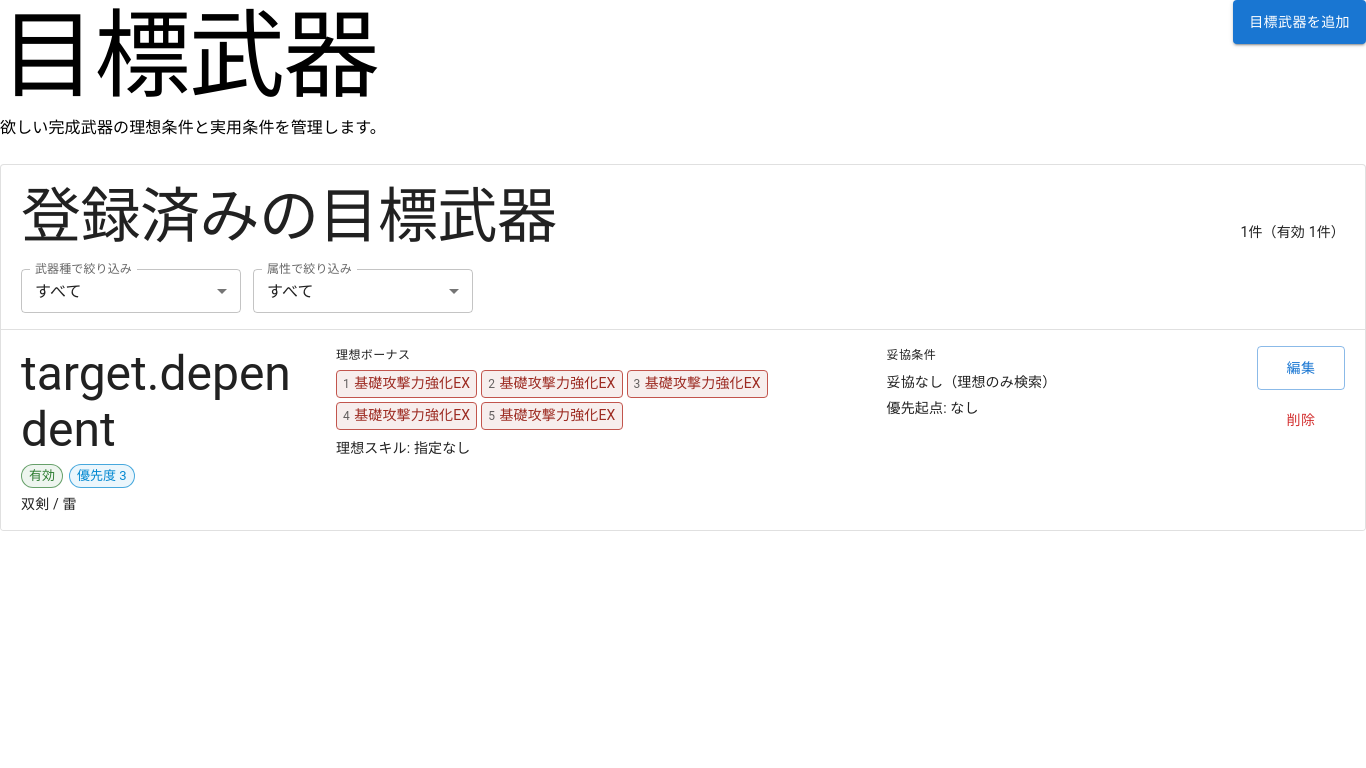
Test: TargetWeaponsPage breaking-change warning › warns before deleting a Plan-dependent Target, after the existing confirmation and reference protection
Click the button "削除" at (1301, 420), box [1257,398,1345,442]
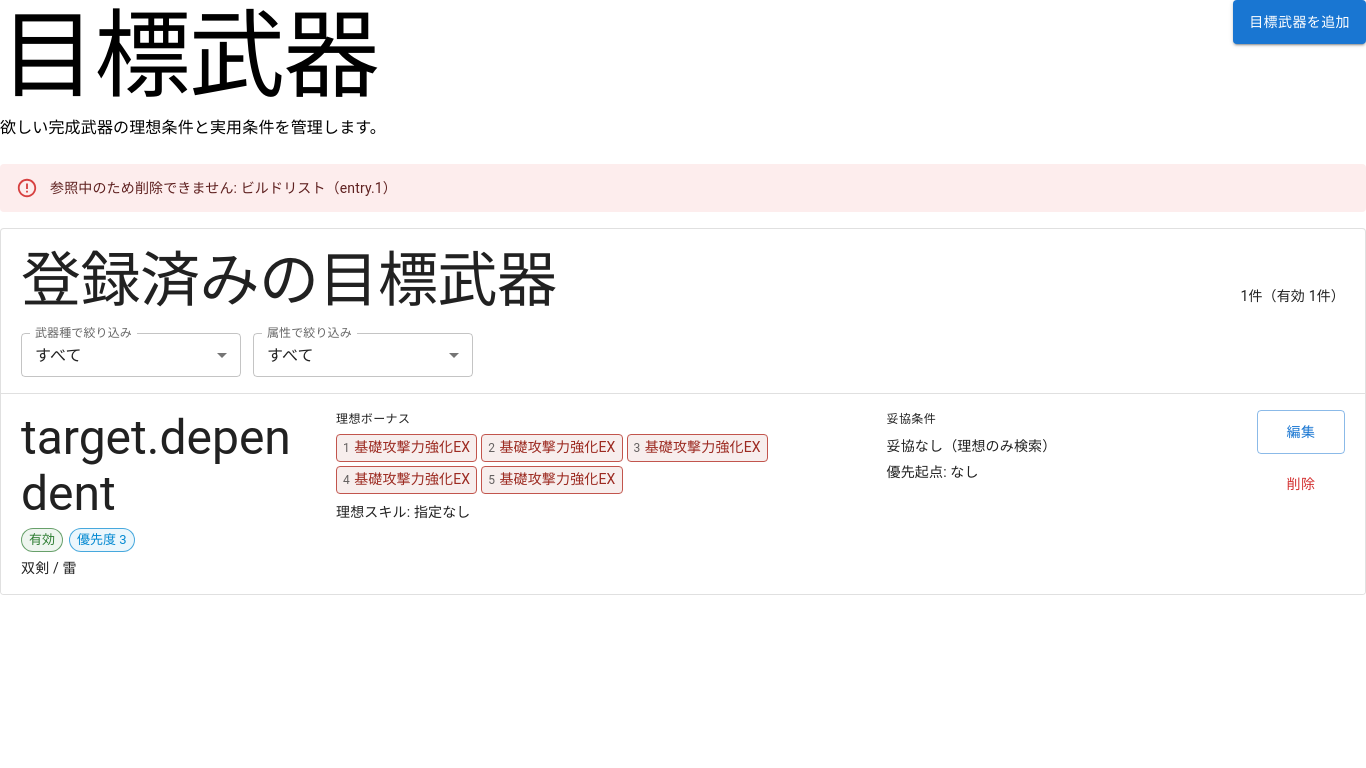
Expected: the text "参照中のため削除できません: ビルドリスト（entry.1）" is shown, [50,180,397,196]
Click the button "削除" at (1301, 484), box [1257,462,1345,506]
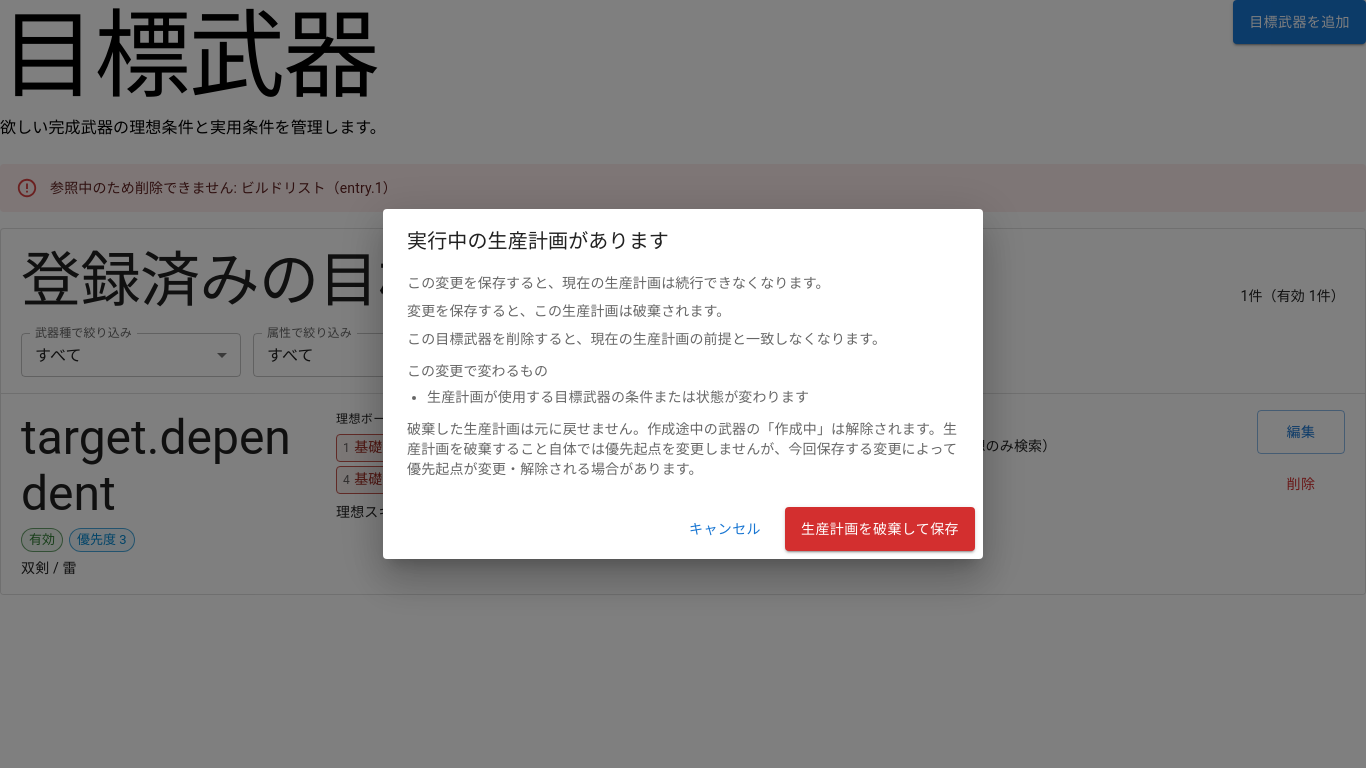
Click the button "生産計画を破棄して保存" at (880, 529), box [785,507,975,551]
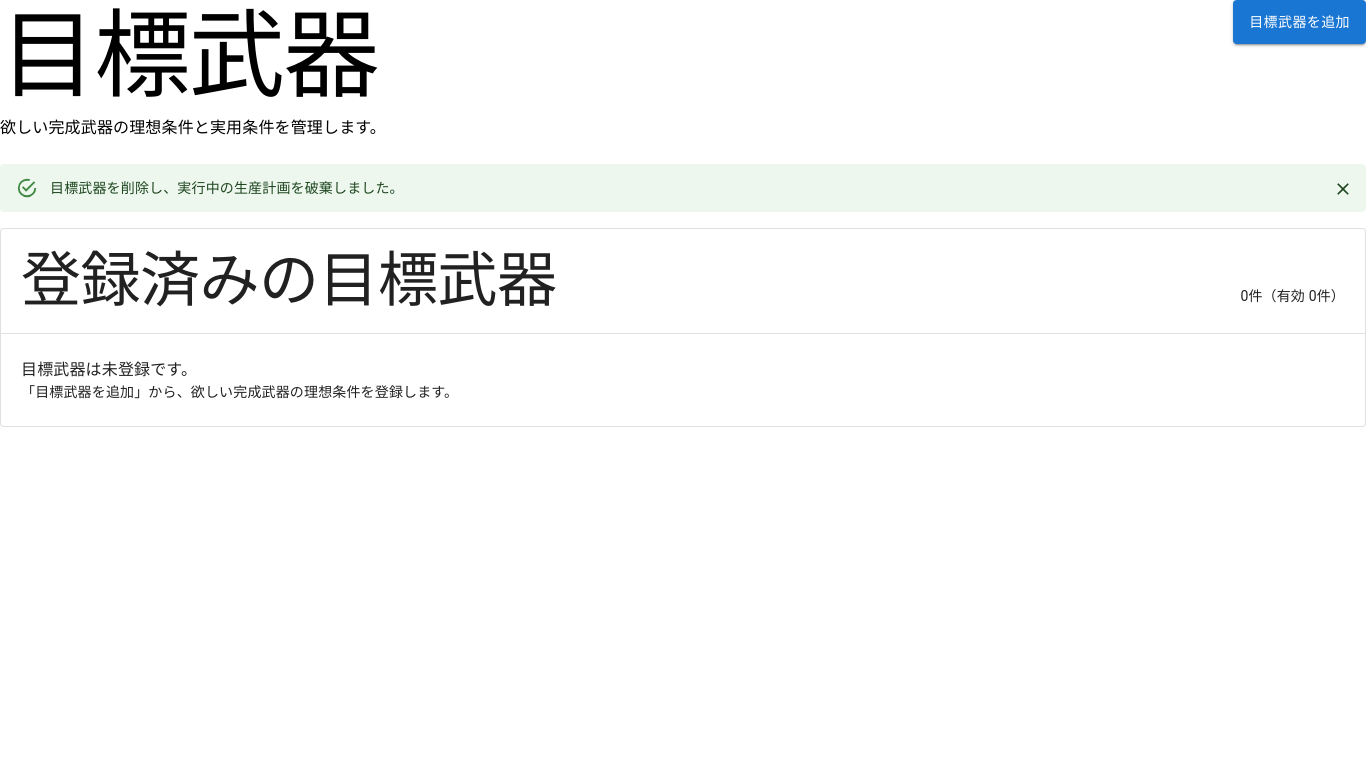
Expected: the text "目標武器を削除し、実行中の生産計画を破棄しました。" is shown, [50,180,404,196]
